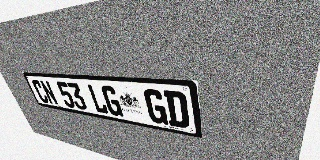3: (66, 82, 88, 111)
5: (56, 81, 77, 109)
C: (31, 79, 50, 104)
D: (163, 90, 190, 129)
G: (143, 88, 168, 125), (100, 85, 124, 117)
L: (86, 84, 109, 114)
N: (39, 80, 59, 105)
